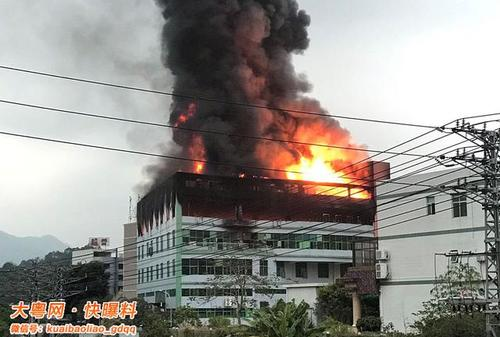fire: (290, 131, 374, 200)
smoke: (154, 4, 284, 177)
